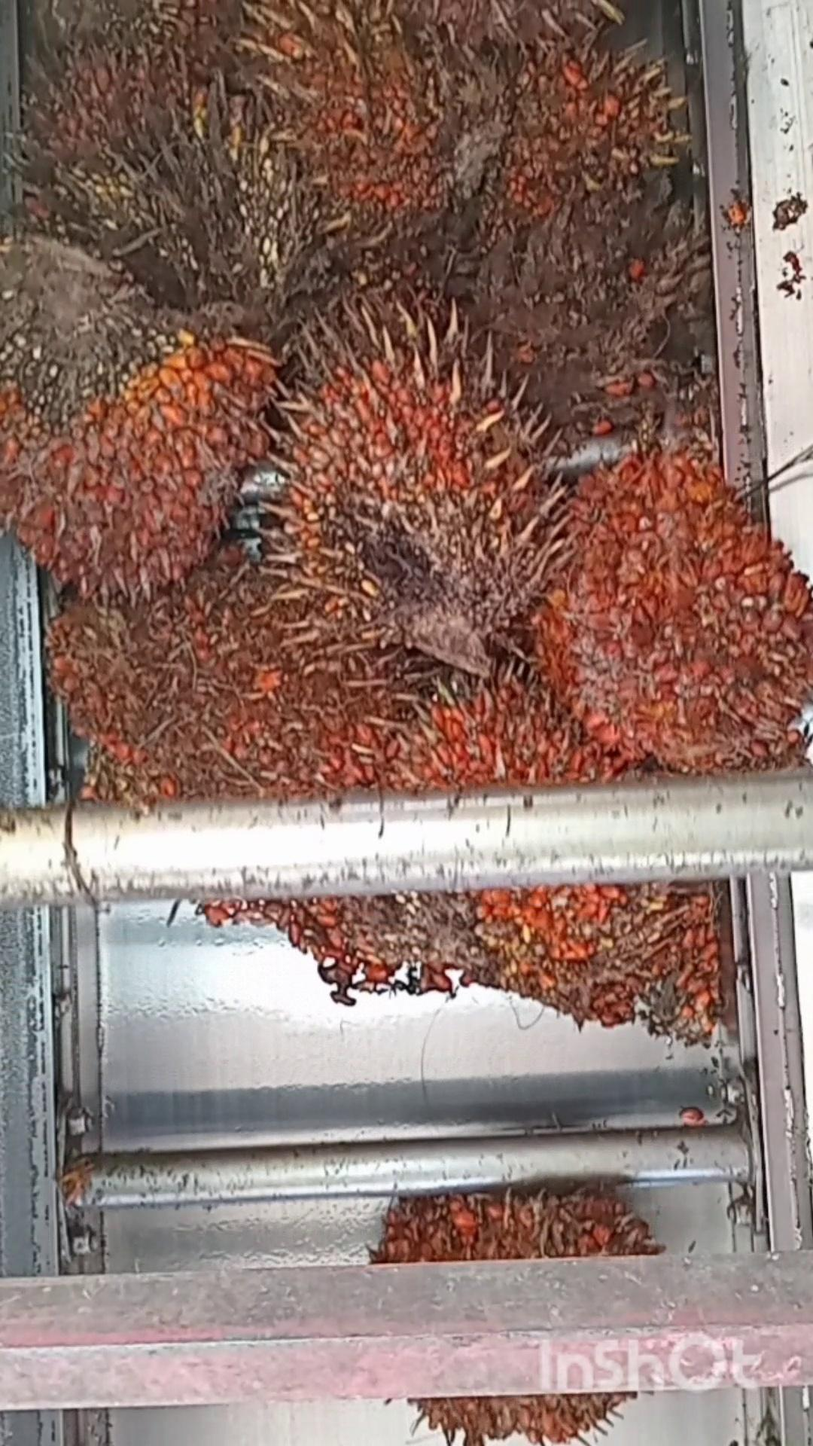Madurado: (0, 218, 275, 602), (271, 301, 553, 651), (546, 433, 813, 772), (49, 565, 418, 768)
Verde: (448, 147, 719, 437)
